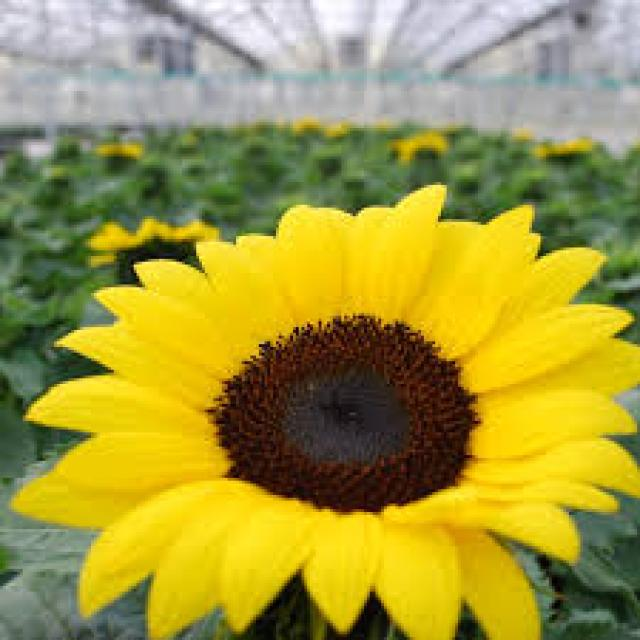sunflower: (8, 168, 640, 640), (81, 195, 250, 327), (382, 120, 455, 199), (75, 130, 161, 173), (520, 134, 600, 173)
